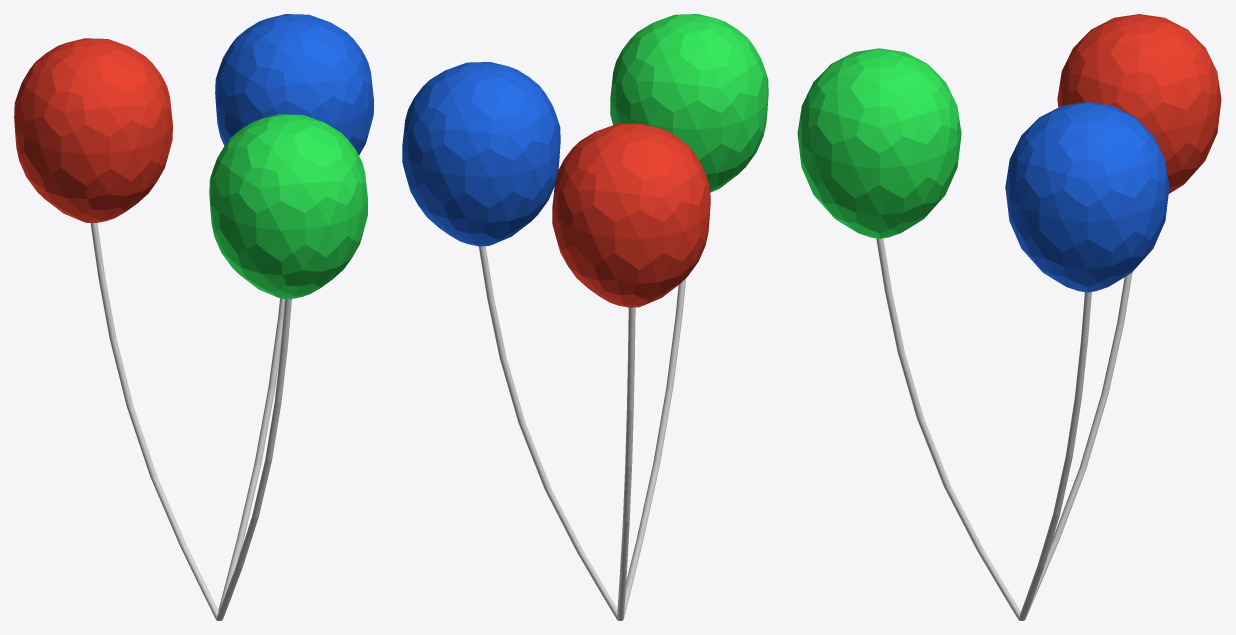
Rendered from SlimeBalloon.fbx.
3 views of the same model, side by side, from view 1: azimuth 30°, elevation 25°; view 2: azimuth 150°, elevation 25°; view 3: azimuth 270°, elevation 25° (orthographic). The views are drawn at different scales.
Parts seen in each view (by area): view 1: Cylinder; view 2: Cylinder; view 3: Cylinder.
Boxes of the visible parts, <box> form: Cylinder: <box>14,14,373,620</box>; Cylinder: <box>402,14,768,620</box>; Cylinder: <box>797,14,1221,620</box>.
Bounding box in the file's own units: 697 × 1020 × 611.
